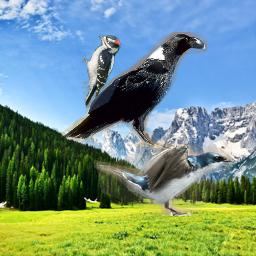Crow: (61, 32, 207, 149)
Swallow: (94, 142, 232, 216)
Woodpecker: (82, 33, 121, 108)
